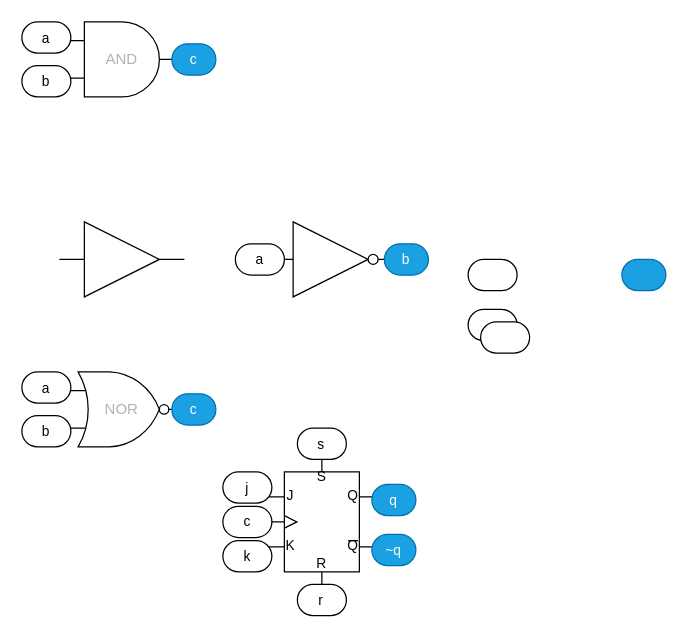
This 689x638 diagram has some shape labels left out. The shapes that lost their labels are listed below. From the top down, each one's box as (x1, y1, x2, y2) in pixels, then its label:
(271, 221, 397, 297): INV
(258, 458, 384, 584): JK
